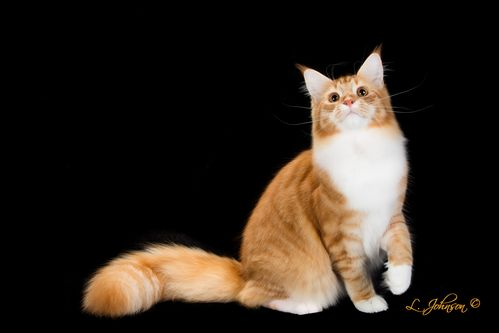cat: (81, 50, 414, 315)
